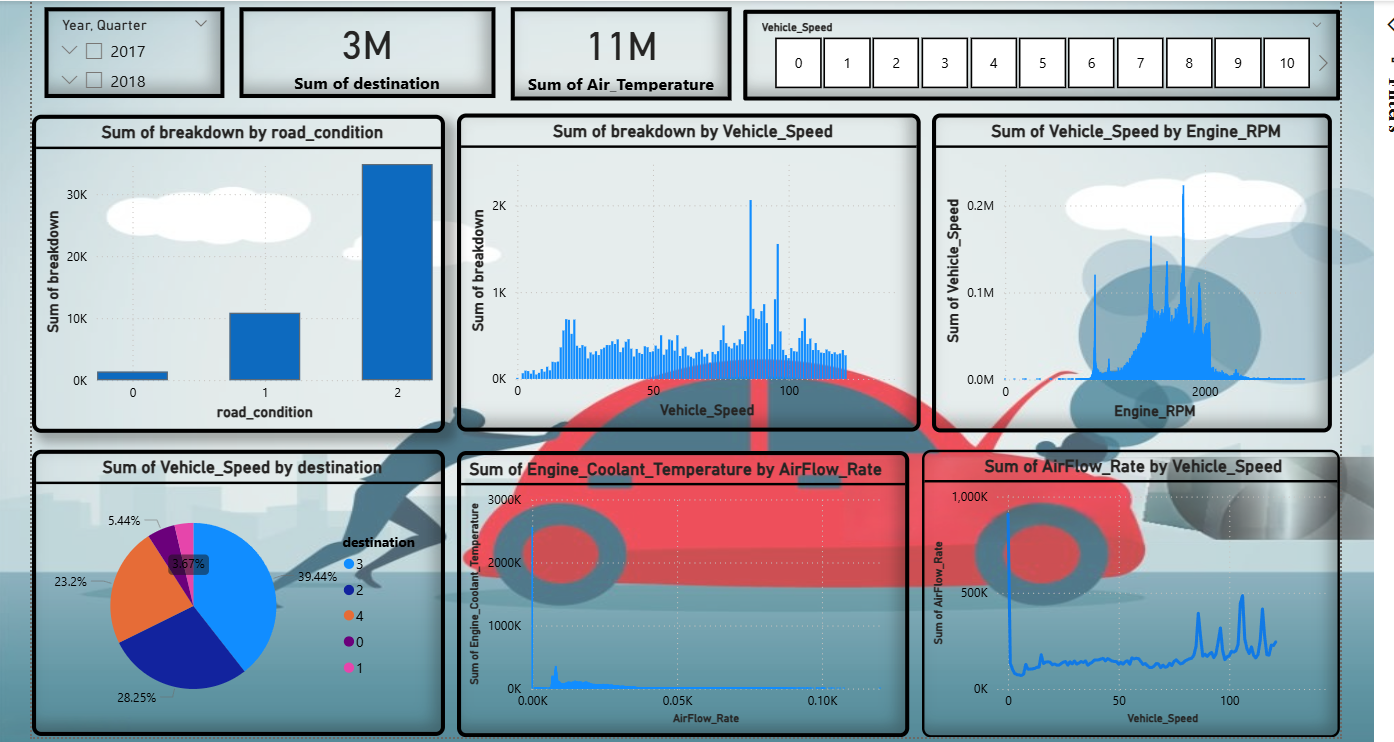

This screenshot's page, from the dashboard's own definition file:
{"tool":"powerbi","page":{"name":"Analysis1","canvas":[1280,720],"ordinal":1},"visuals":[{"type":"clusteredColumnChart","fields":{"Y":["Sum(cleaned_obd_with_timestamp.breakdown)"],"Category":["cleaned_obd_with_timestamp.road_condition"]},"box":[0,111.2,403.8,311.2],"z":0},{"type":"lineClusteredColumnComboChart","fields":{"Category":["cleaned_obd_with_timestamp.Vehicle_Speed"],"Y":["Sum(cleaned_obd_with_timestamp.breakdown)"]},"box":[416.2,110,453.8,311.2],"z":1000},{"type":"lineChart","fields":{"Y":["Sum(cleaned_obd_with_timestamp.AirFlow_Rate)"],"Category":["cleaned_obd_with_timestamp.Vehicle_Speed"]},"box":[871.2,438.8,408.8,281.2],"z":2000},{"type":"pieChart","fields":{"Category":["cleaned_obd_with_timestamp.destination"],"Y":["Sum(cleaned_obd_with_timestamp.Vehicle_Speed)"]},"box":[0,438.8,403.8,280],"z":3000},{"type":"clusteredColumnChart","fields":{"Category":["cleaned_obd_with_timestamp.AirFlow_Rate"],"Y":["Sum(cleaned_obd_with_timestamp.Engine_Coolant_Temperature)"]},"box":[416.2,440,442.5,280],"z":4000},{"type":"lineClusteredColumnComboChart","fields":{"Y":["Sum(cleaned_obd_with_timestamp.Vehicle_Speed)"],"Category":["cleaned_obd_with_timestamp.Engine_RPM"]},"box":[880.4,110.1,391.3,311.8],"z":5000},{"type":"slicer","fields":{"Values":["cleaned_obd_with_timestamp.Timestamp.Variation.Date Hierarchy.Year","cleaned_obd_with_timestamp.Timestamp.Variation.Date Hierarchy.Quarter"]},"box":[12.5,6.2,176.2,88.8],"z":6000},{"type":"slicer","fields":{"Values":["cleaned_obd_with_timestamp.Vehicle_Speed"]},"box":[696.2,8.8,583.8,88.8],"z":7000},{"type":"card","fields":{"Values":["Sum(cleaned_obd_with_timestamp.destination)"]},"box":[202.5,6.2,250,88.8],"z":8000},{"type":"card","fields":{"Values":["Sum(cleaned_obd_with_timestamp.Air_Temperature)"]},"box":[468.8,6.2,216.2,91],"z":9000}]}

Visuals, with their boxes in screenshot pixels (x1, y1, x2, y2):
clusteredColumnChart - Sum(cleaned_obd_with_timestamp.breakdown) x cleaned_obd_with_timestamp.road_condition: <bbox>33, 113, 442, 428</bbox>
lineClusteredColumnComboChart - cleaned_obd_with_timestamp.Vehicle_Speed x Sum(cleaned_obd_with_timestamp.breakdown): <bbox>455, 112, 915, 427</bbox>
lineChart - Sum(cleaned_obd_with_timestamp.AirFlow_Rate) x cleaned_obd_with_timestamp.Vehicle_Speed: <bbox>916, 445, 1331, 730</bbox>
pieChart - cleaned_obd_with_timestamp.destination x Sum(cleaned_obd_with_timestamp.Vehicle_Speed): <bbox>33, 445, 442, 729</bbox>
clusteredColumnChart - cleaned_obd_with_timestamp.AirFlow_Rate x Sum(cleaned_obd_with_timestamp.Engine_Coolant_Temperature): <bbox>455, 446, 904, 730</bbox>
lineClusteredColumnComboChart - Sum(cleaned_obd_with_timestamp.Vehicle_Speed) x cleaned_obd_with_timestamp.Engine_RPM: <bbox>926, 112, 1323, 428</bbox>
slicer - cleaned_obd_with_timestamp.Timestamp.Variation.Date Hierarchy.Year x cleaned_obd_with_timestamp.Timestamp.Variation.Date Hierarchy.Quarter: <bbox>45, 6, 224, 96</bbox>
slicer - cleaned_obd_with_timestamp.Vehicle_Speed: <bbox>739, 9, 1331, 99</bbox>
card - Sum(cleaned_obd_with_timestamp.destination): <bbox>238, 6, 492, 96</bbox>
card - Sum(cleaned_obd_with_timestamp.Air_Temperature): <bbox>508, 6, 727, 99</bbox>
